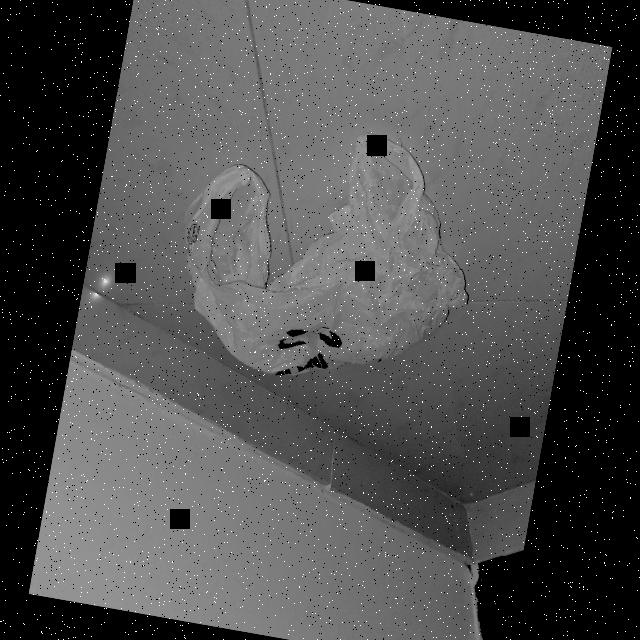plastic_bag: (158, 108, 491, 410)
